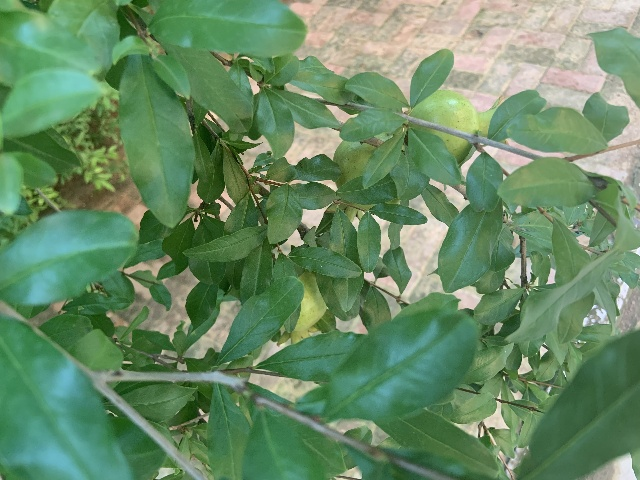mid-growth: (408, 89, 509, 164), (326, 132, 401, 223), (276, 271, 327, 347)
